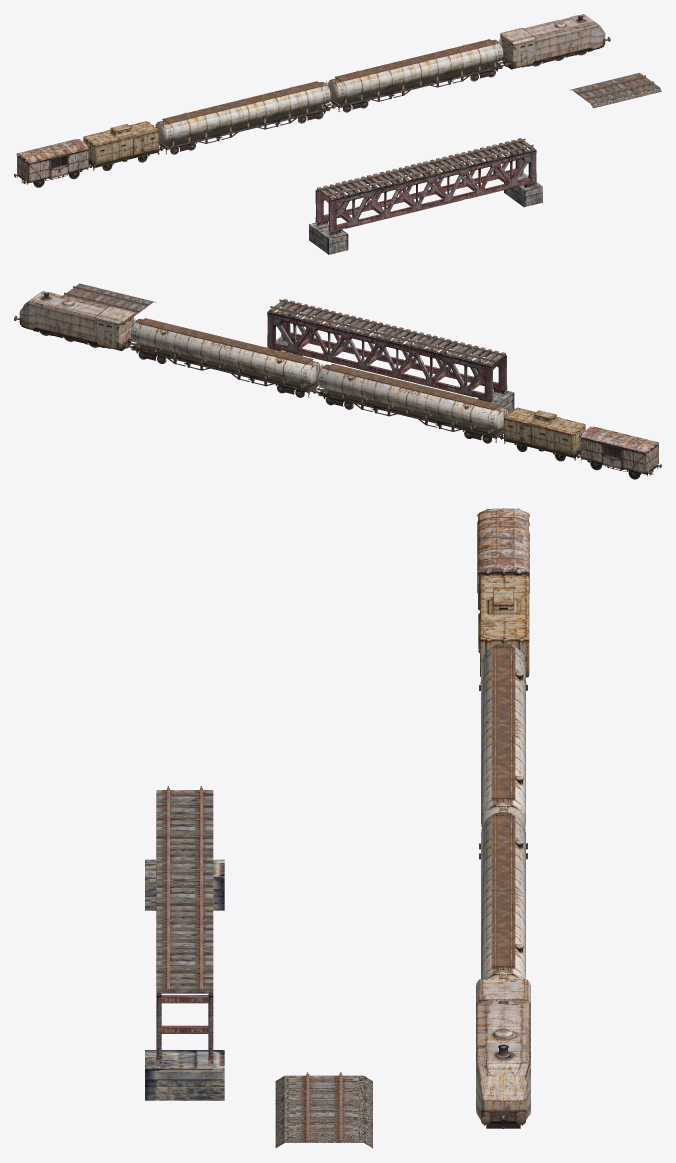
File: mule.glb
3 renders of one model, top to bottom at view 1: azimuth 30°, elevation 25°; view 2: azimuth 150°, elevation 25°; view 3: azimuth 270°, elevation 25°, orthographic. The views are drawn at different scales.
Visible parts, largest first — view 1: mule-bridge-span:span, mule-tank-wagon-1:body, mule-tank-wagon-2:body, mule-cab:body, mule-guard-wagon:body, mule-box-wagon:body, mule-rail:track, tank-wagon-2, tank-wagon-1, mule-cab:running-gear, mule-guard-wagon:running-gear, mule-box-wagon:running-gear (+1 smaller); view 2: mule-bridge-span:span, mule-tank-wagon-1:body, mule-tank-wagon-2:body, mule-cab:body, mule-guard-wagon:body, mule-box-wagon:body, tank-wagon-2, tank-wagon-1, mule-rail:track, mule-cab:running-gear, box-wagon-door-far, mule-box-wagon:running-gear (+1 smaller); view 3: mule-bridge-span:span, mule-cab:body, mule-rail:track, mule-tank-wagon-2:body, mule-tank-wagon-1:body, mule-guard-wagon:body, tank-wagon-1, tank-wagon-2, mule-box-wagon:body.
Boxes of the visible parts, x1,y1,x2,y2 form: mule-bridge-span:span: (309,138,542,254); mule-tank-wagon-1:body: (327,39,506,112); mule-tank-wagon-2:body: (155,81,334,154); mule-cab:body: (500,14,605,68); mule-guard-wagon:body: (83,121,158,164); mule-box-wagon:body: (16,139,88,182); mule-rail:track: (569,73,661,108); tank-wagon-2: (162,81,323,123); tank-wagon-1: (335,39,495,81); mule-cab:running-gear: (502,16,610,69); mule-guard-wagon:running-gear: (88,147,162,170); mule-box-wagon:running-gear: (14,157,91,187); mule-bridge-span:span: (266,299,514,413); mule-tank-wagon-1:body: (126,318,321,397); mule-tank-wagon-2:body: (313,364,508,443); mule-cab:body: (19,291,133,349); mule-guard-wagon:body: (504,407,585,454); mule-box-wagon:body: (580,426,658,473); tank-wagon-2: (326,363,500,410); tank-wagon-1: (139,318,313,364); mule-rail:track: (63,283,156,316); mule-cab:running-gear: (14,293,131,350); box-wagon-door-far: (602,443,622,469); mule-box-wagon:running-gear: (577,446,661,479); mule-bridge-span:span: (145,786,224,1100); mule-cab:body: (476,979,530,1123); mule-rail:track: (275,1072,372,1148); mule-tank-wagon-2:body: (479,641,527,849); mule-tank-wagon-1:body: (479,809,527,979); mule-guard-wagon:body: (478,575,529,677); tank-wagon-1: (491,815,515,968); tank-wagon-2: (491,647,515,800); mule-box-wagon:body: (477,508,529,610).
Size of the model in its own units: 67.92 by 10.04 by 19.38.
16 materials, 15 textured.
